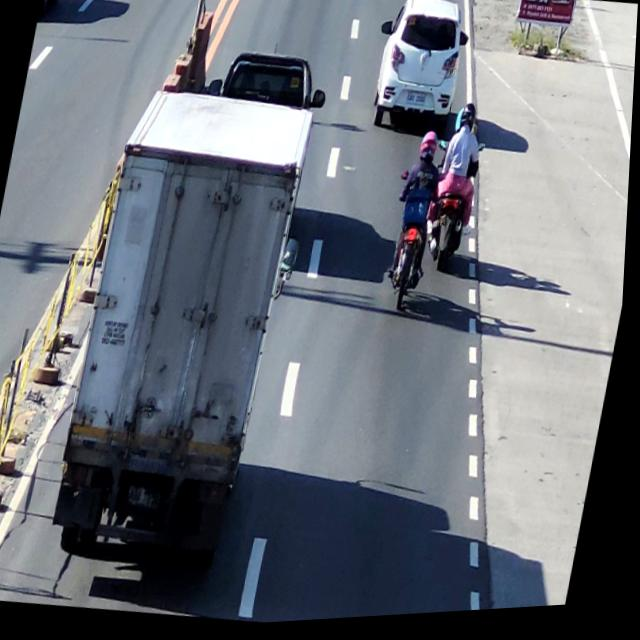Car: (367, 0, 472, 145), (216, 43, 326, 122)
License-Plate: (126, 482, 172, 524), (405, 90, 431, 115)
Motorcycle: (420, 143, 487, 285), (382, 171, 443, 319)
Truck: (54, 82, 309, 589)
